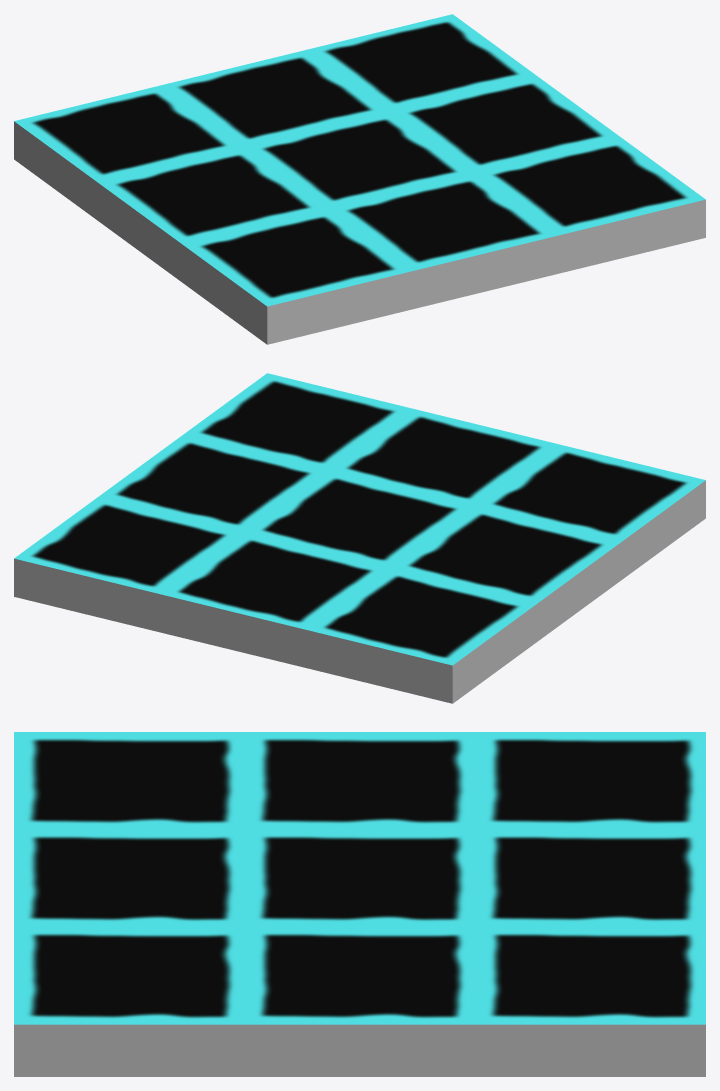
Rendered from tile_grid.glb.
The picture shows the model from 3 angles, top to bottom: view 1: azimuth 30°, elevation 25°; view 2: azimuth 150°, elevation 25°; view 3: azimuth 270°, elevation 25°; orthographic projection. The views are drawn at different scales.
Parts seen in each view (by area): view 1: Floor Tile.001, Floor Tile.004, Floor Tile.005, Floor Tile.002, Floor Tile.003, Floor Tile.008, Floor Tile.007, Floor Tile.009, Floor Tile.006; view 2: Floor Tile.003, Floor Tile.008, Floor Tile.009, Floor Tile.002, Floor Tile.001, Floor Tile.004, Floor Tile.007, Floor Tile.005, Floor Tile.006; view 3: Floor Tile.007, Floor Tile.005, Floor Tile.009, Floor Tile.002, Floor Tile.006, Floor Tile.001, Floor Tile.003, Floor Tile.004, Floor Tile.008.
Boxes of the visible parts, <box> form: Floor Tile.001: <box>183,209,413,344</box>; Floor Tile.004: <box>329,173,559,308</box>; Floor Tile.005: <box>475,138,705,273</box>; Floor Tile.002: <box>98,147,328,282</box>; Floor Tile.003: <box>14,85,243,220</box>; Floor Tile.008: <box>160,50,390,147</box>; Floor Tile.007: <box>391,76,621,173</box>; Floor Tile.009: <box>306,14,536,111</box>; Floor Tile.006: <box>245,111,474,208</box>; Floor Tile.003: <box>306,568,536,703</box>; Floor Tile.008: <box>160,532,390,667</box>; Floor Tile.009: <box>14,497,244,632</box>; Floor Tile.002: <box>391,506,621,641</box>; Floor Tile.001: <box>476,444,705,579</box>; Floor Tile.004: <box>329,409,559,506</box>; Floor Tile.007: <box>98,435,328,532</box>; Floor Tile.005: <box>183,373,413,470</box>; Floor Tile.006: <box>245,470,474,567</box>; Floor Tile.007: <box>244,927,475,1076</box>; Floor Tile.005: <box>14,927,244,1076</box>; Floor Tile.009: <box>475,927,705,1076</box>; Floor Tile.002: <box>244,732,475,829</box>; Floor Tile.006: <box>244,829,475,926</box>; Floor Tile.001: <box>14,732,244,829</box>; Floor Tile.003: <box>475,732,705,829</box>; Floor Tile.004: <box>14,829,244,926</box>; Floor Tile.008: <box>475,829,705,926</box>.
Size of the model in its own units: 6 by 0.5 by 6.
Materials: 1 (1 with a texture image).
